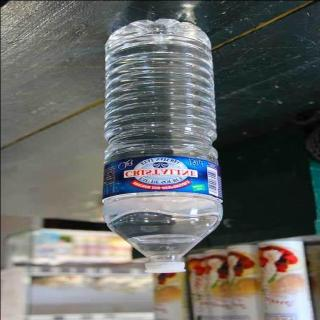Anorganik: (94, 14, 222, 276)
